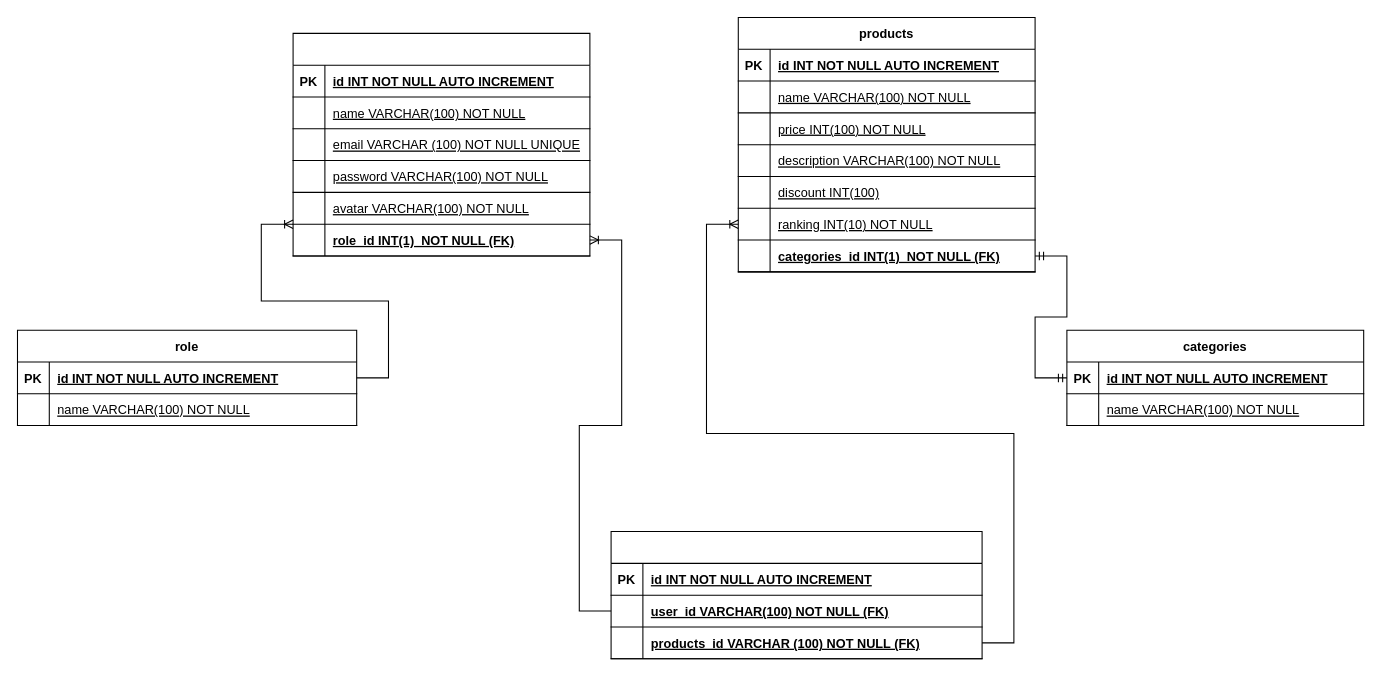
Image size: 1381x676. Some labels were removed from this diagram. Each missing label, with the box of its shape:
users: (292, 32, 590, 256)
users_products: (610, 531, 982, 659)
